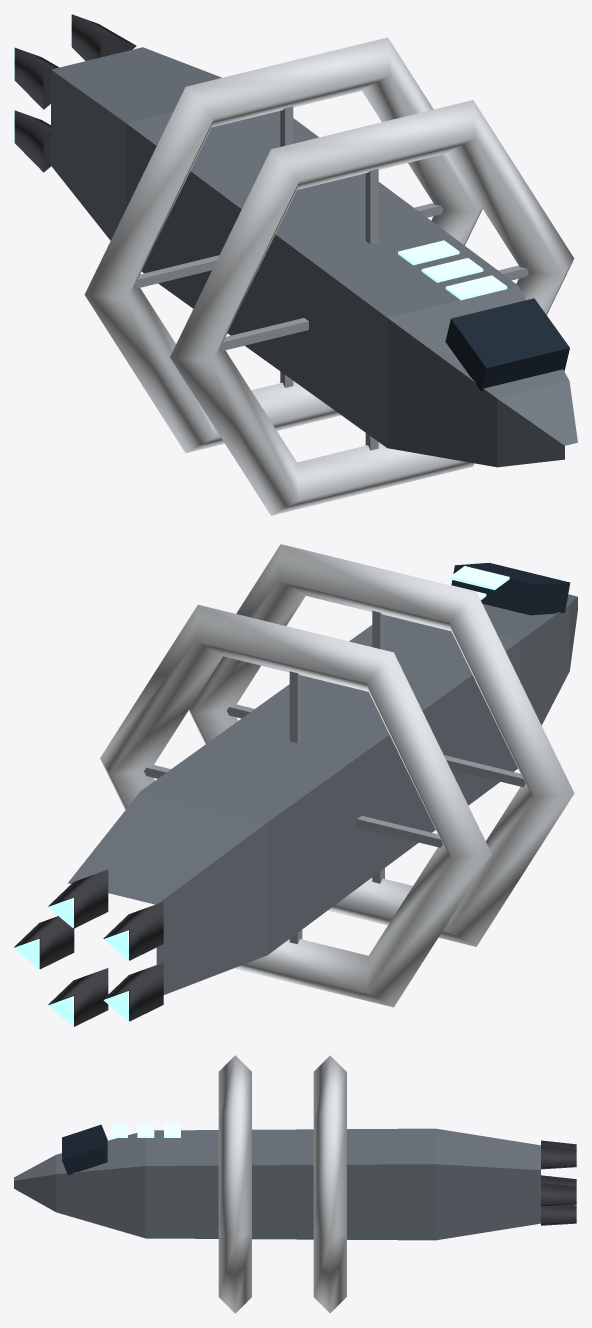
File: space_ship_colony_transport_mk3_lod2.glb
The picture shows the model from 3 angles, top to bottom: view 1: azimuth 30°, elevation 25°; view 2: azimuth 150°, elevation 25°; view 3: azimuth 270°, elevation 25°; orthographic projection. The views are drawn at different scales.
Parts seen in each view (by area): view 1: body, habitat_ring_1, habitat_ring_0, engine_1, engine_2, engine_3; view 2: body, habitat_ring_0, habitat_ring_1, engine_1, engine_3, engine_2, engine_4, engine_0; view 3: body, habitat_ring_0, habitat_ring_1, engine_1, engine_0, engine_4.
Boxes of the visible parts, x1,y1,x2,y2 form: body: [51, 47, 577, 467]; habitat_ring_1: [170, 100, 574, 515]; habitat_ring_0: [84, 37, 482, 452]; engine_1: [71, 14, 136, 60]; engine_2: [14, 47, 58, 109]; engine_3: [14, 110, 50, 172]; body: [68, 562, 577, 994]; habitat_ring_0: [100, 604, 491, 1007]; habitat_ring_1: [189, 544, 574, 946]; engine_1: [48, 869, 108, 928]; engine_3: [103, 962, 163, 1021]; engine_2: [103, 902, 163, 960]; engine_4: [48, 968, 108, 1026]; engine_0: [14, 916, 74, 969]; body: [14, 1124, 540, 1240]; habitat_ring_0: [313, 1055, 346, 1313]; habitat_ring_1: [218, 1055, 251, 1313]; engine_1: [541, 1145, 577, 1169]; engine_0: [541, 1183, 577, 1207]; engine_4: [541, 1205, 577, 1225].
Bounding box in the file's own units: 24.42 × 21.14 × 53.08.
